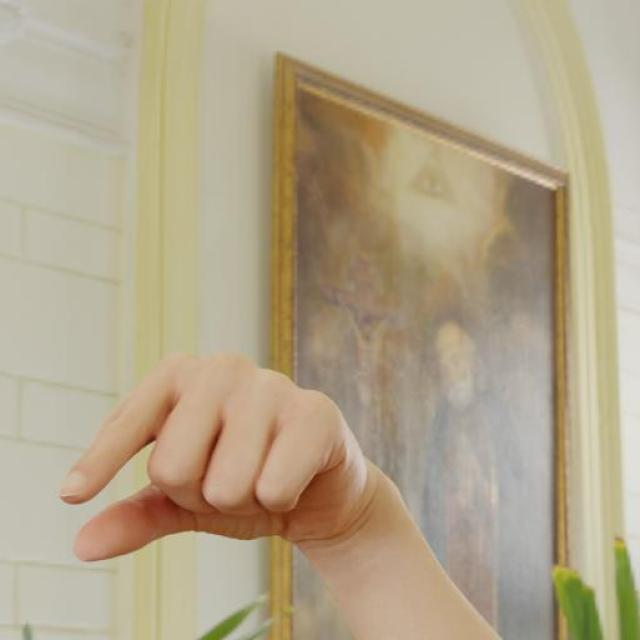Q: (54, 345, 379, 569)
